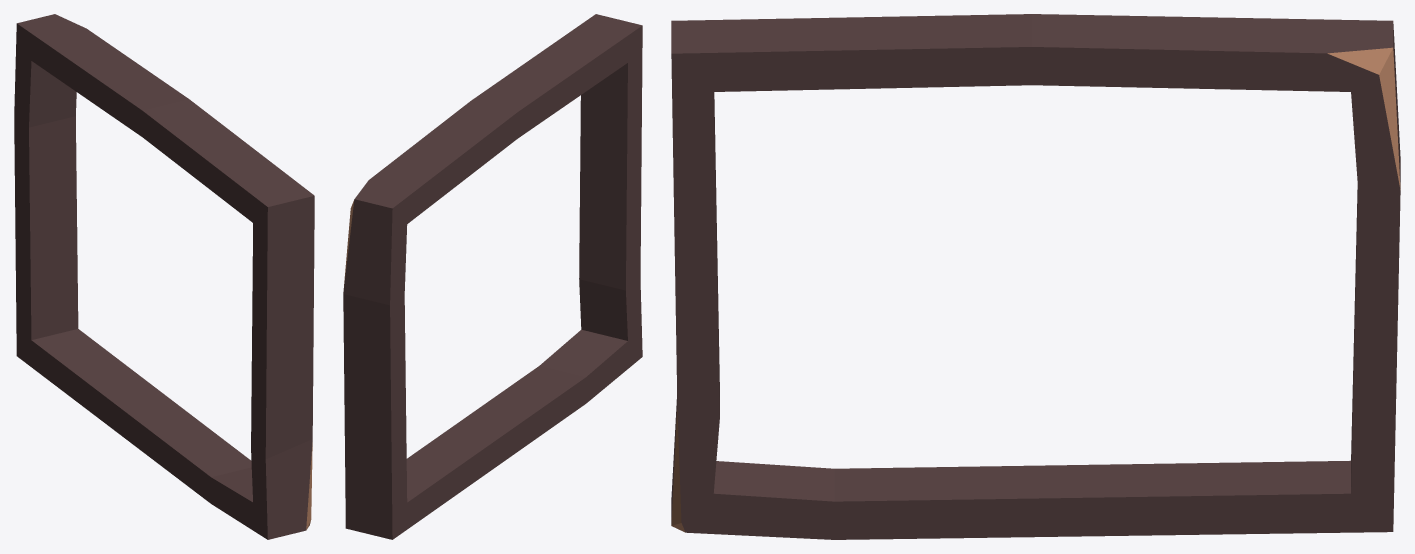
Rendered from builder_53.FBX.
3 views of the same model, side by side, from view 1: azimuth 30°, elevation 25°; view 2: azimuth 150°, elevation 25°; view 3: azimuth 270°, elevation 25° (orthographic). The views are drawn at different scales.
Parts seen in each view (by area): view 1: builder_53; view 2: builder_53; view 3: builder_53.
Boxes of the visible parts, x1,y1,x2,y2 form: builder_53: (14, 14, 314, 539); builder_53: (343, 14, 642, 539); builder_53: (671, 14, 1400, 539).
Bounding box in the file's own units: 5.44 × 38.05 × 50.99.
